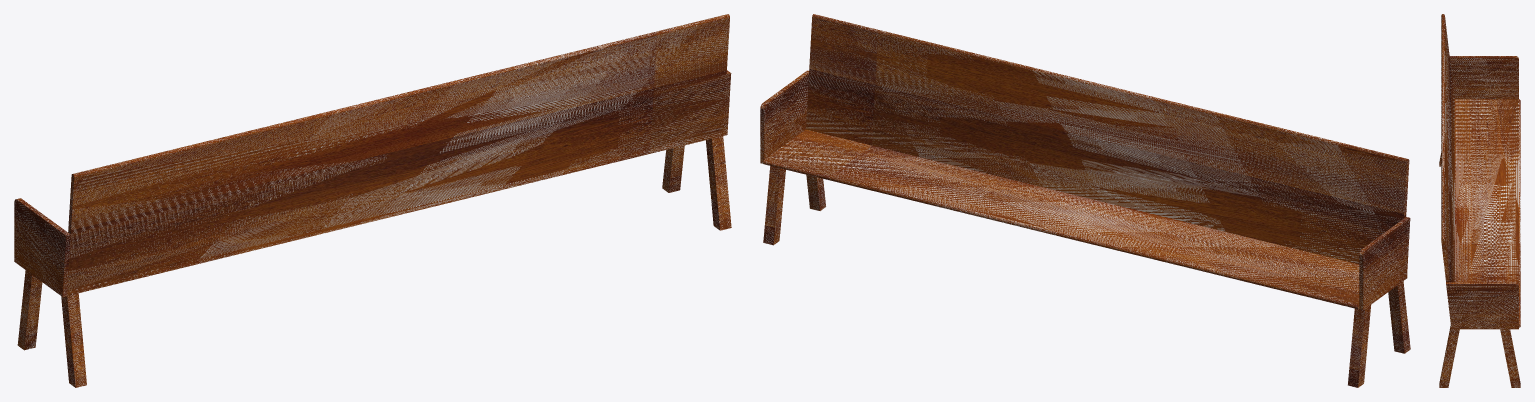
The picture shows the model from 3 angles, left to right: view 1: azimuth 30°, elevation 25°; view 2: azimuth 150°, elevation 25°; view 3: azimuth 270°, elevation 25°; orthographic projection. The views are drawn at different scales.
Parts seen in each view (by area): view 1: mesh1_mesh1-geometry; view 2: mesh1_mesh1-geometry; view 3: mesh1_mesh1-geometry.
Part boxes in pixels (<box>): mesh1_mesh1-geometry: <box>14,14,731,387</box>; mesh1_mesh1-geometry: <box>760,14,1410,387</box>; mesh1_mesh1-geometry: <box>1439,14,1520,387</box>.
Size of the model in its own units: 0.9469 by 0.2881 by 0.143.
